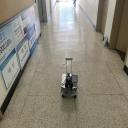cart: (61, 74, 78, 98)
